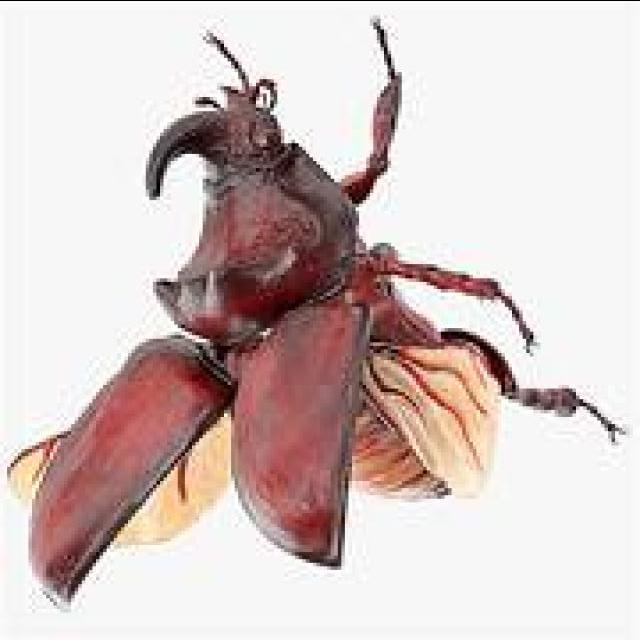Rhino-beetle: (8, 8, 576, 614)
